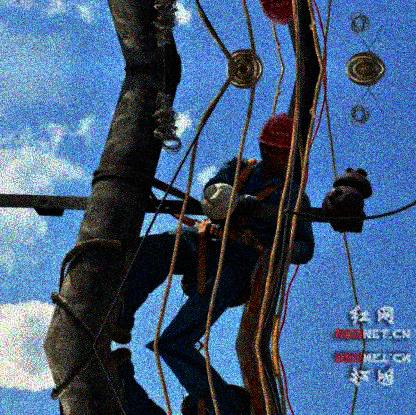helmet: (259, 111, 298, 174)
